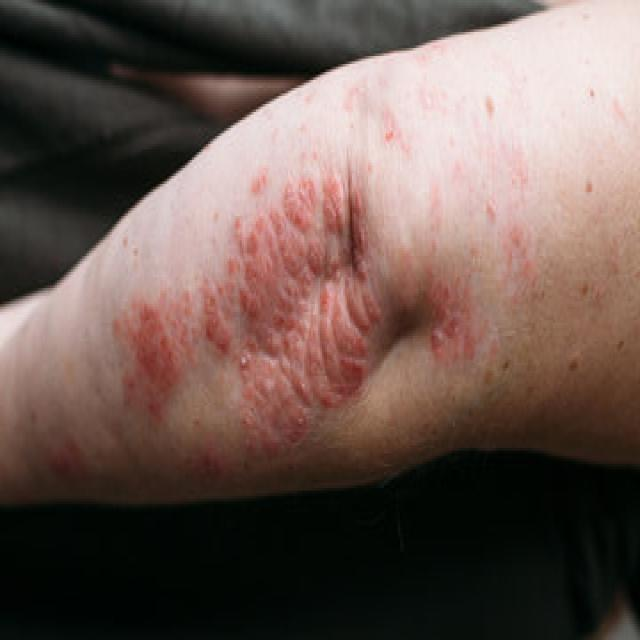Eczema: (44, 173, 542, 496)
